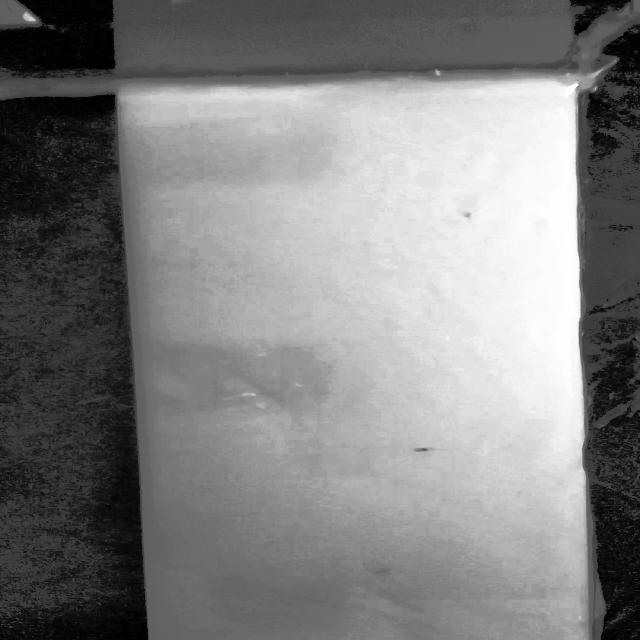shrimp: (371, 564, 405, 579), (408, 444, 444, 456), (456, 207, 475, 222)
